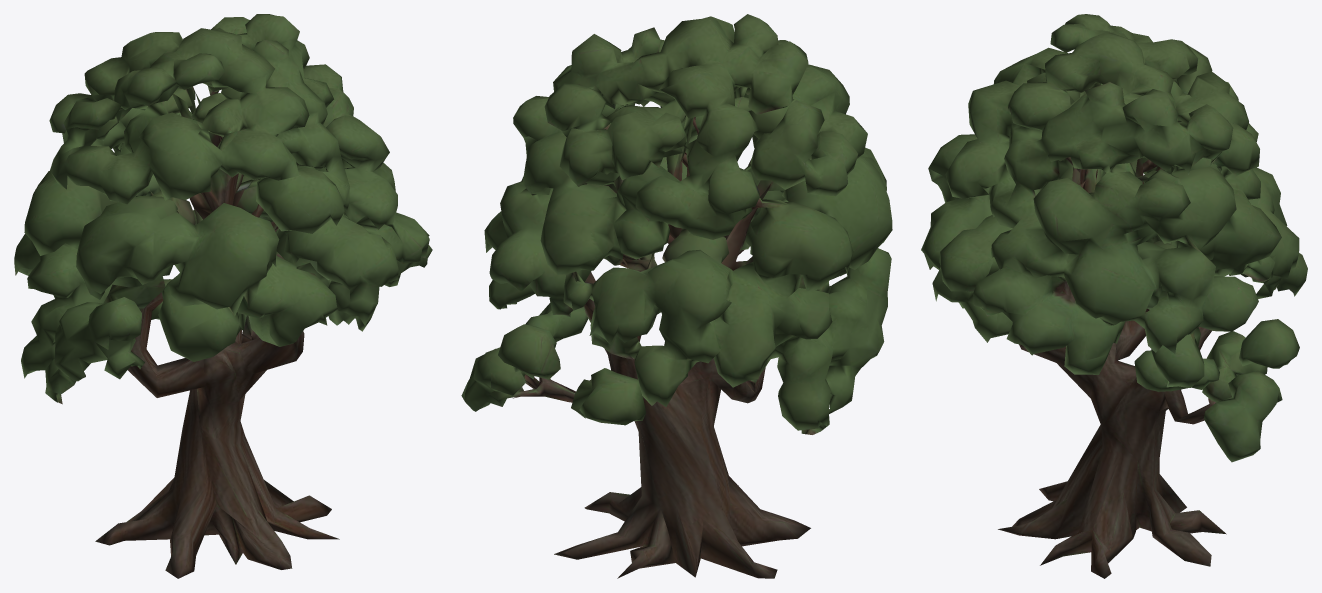
File: broadleaf.glb
3 renders of one model, left to right at view 1: azimuth 30°, elevation 25°; view 2: azimuth 150°, elevation 25°; view 3: azimuth 270°, elevation 25°, orthographic. The views are drawn at different scales.
Visible parts, largest first — view 1: Mesh_0; view 2: Mesh_0; view 3: Mesh_0.
Boxes of the visible parts, box(x1,y1,x2,y2) form: Mesh_0: box(14, 14, 432, 578); Mesh_0: box(461, 14, 892, 578); Mesh_0: box(921, 14, 1307, 578).
Size of the model in its own units: 1.35 by 1.88 by 1.35.
1 material, 1 textured.
